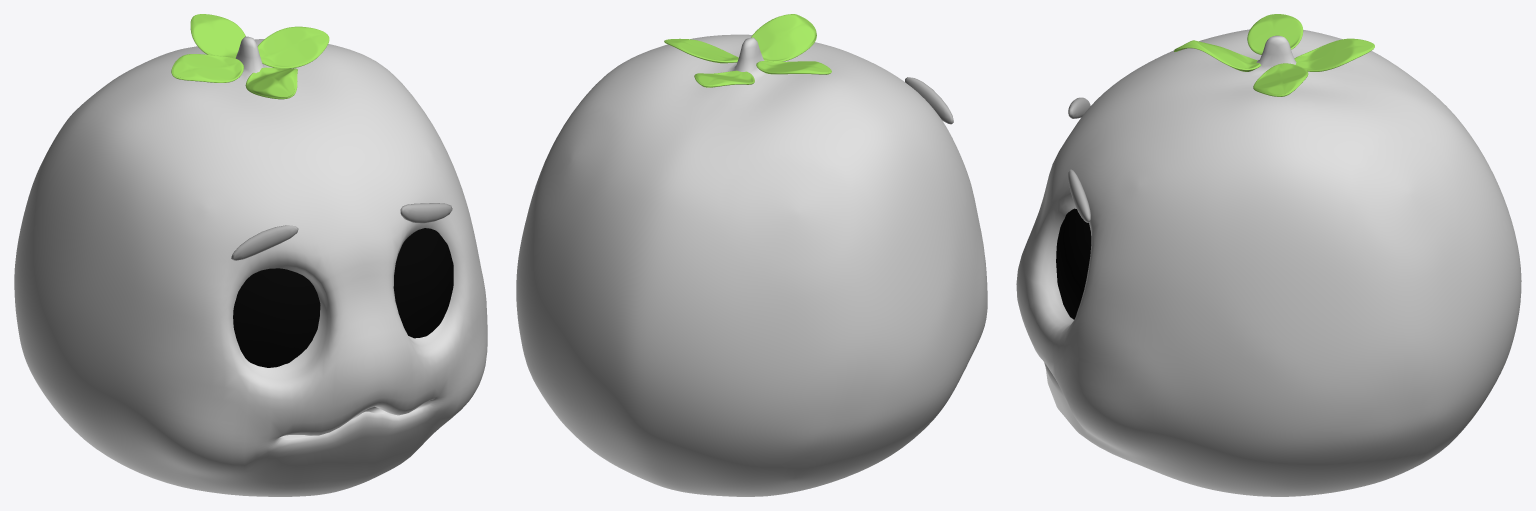
The model's file is Tomato_Happy.fbx.
3 renders of one model, left to right at view 1: azimuth 30°, elevation 25°; view 2: azimuth 150°, elevation 25°; view 3: azimuth 270°, elevation 25°, orthographic.
Parts seen in each view (by area): view 1: tomato_base; view 2: tomato_base; view 3: tomato_base.
Boxes of the visible parts, x1,y1,x2,y2 form: tomato_base: (14,14,487,496); tomato_base: (516,14,987,496); tomato_base: (1016,14,1521,496).
Size of the model in its own units: 3.17 by 3.23 by 3.49.
